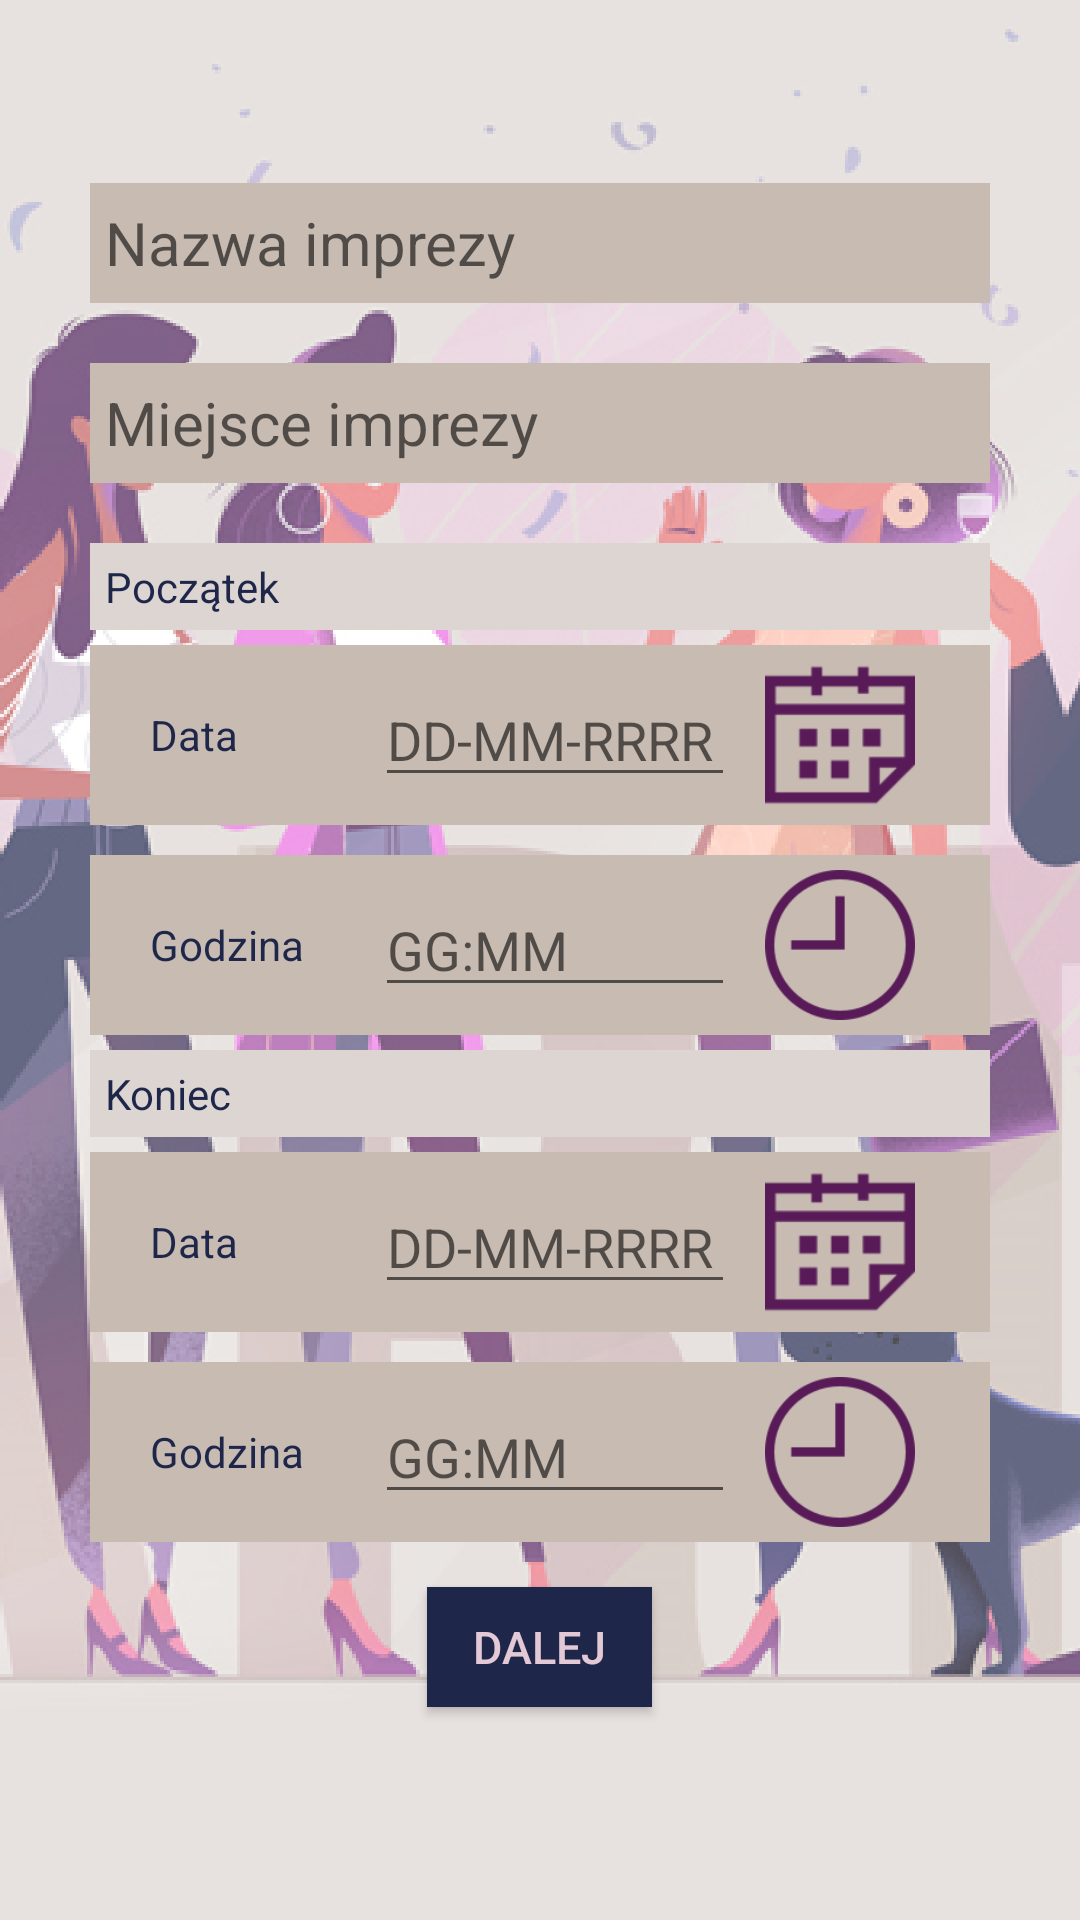

Named icons in this screenshot (1080 × 1920) and their centers, [x,y]:
calendar: [840,735], [840,1242]
clock: [840,945], [840,1452]
